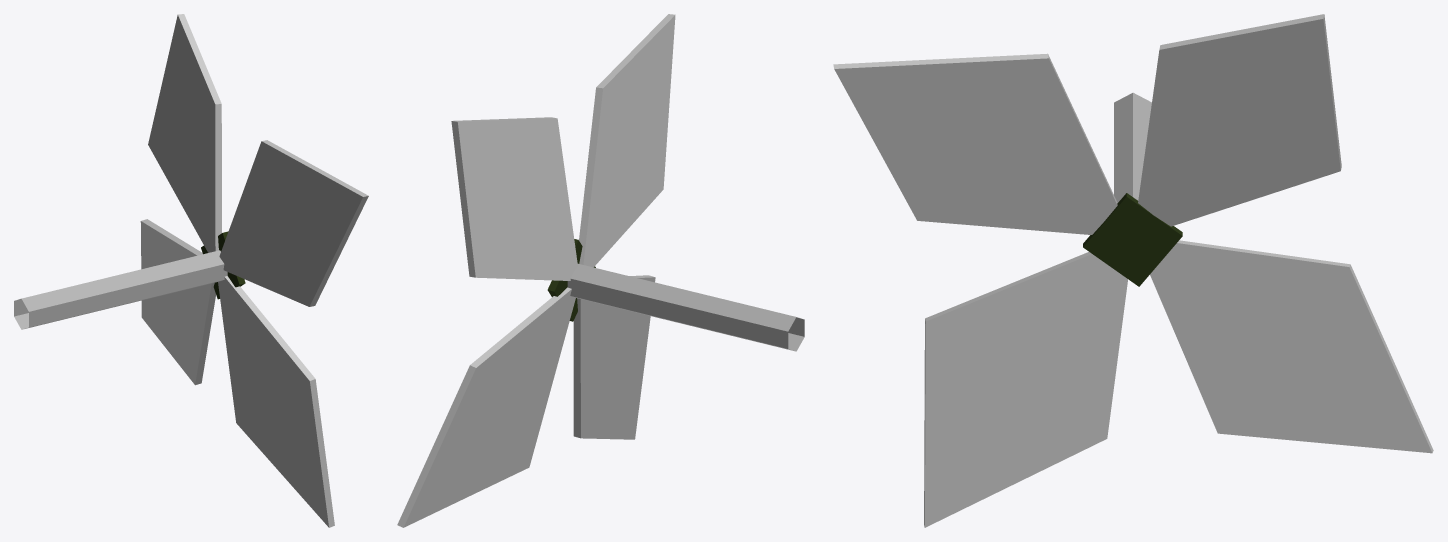
File: OliveFlower_open.obj
3 renders of one model, left to right at view 1: azimuth 30°, elevation 25°; view 2: azimuth 150°, elevation 25°; view 3: azimuth 270°, elevation 25°, orthographic. The views are drawn at different scales.
Visible parts, largest first — view 1: petal, pedicel; view 2: petal, pedicel; view 3: petal, pedicel.
Part boxes in pixels (left/top/right/bottom): petal: left=140, top=14, right=368, bottom=527; pedicel: left=14, top=250, right=227, bottom=329; petal: left=397, top=14, right=675, bottom=527; pedicel: left=567, top=263, right=804, bottom=351; petal: left=833, top=14, right=1433, bottom=527; pedicel: left=1114, top=92, right=1151, bottom=202.
Bounding box in the file's own units: 0.4071 × 0.6381 × 0.6761.
